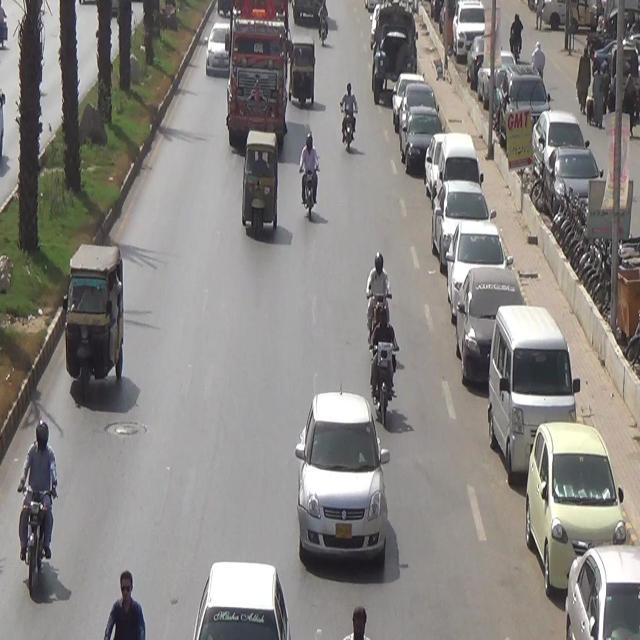car: (287, 384, 391, 588), (514, 420, 628, 596), (481, 297, 574, 483), (186, 555, 287, 640), (456, 267, 526, 382), (446, 212, 509, 307), (202, 16, 227, 74)
motorbike: (14, 410, 59, 592), (368, 306, 399, 429), (366, 244, 396, 356), (337, 74, 365, 164), (301, 129, 321, 229)
truck: (370, 0, 418, 110)
